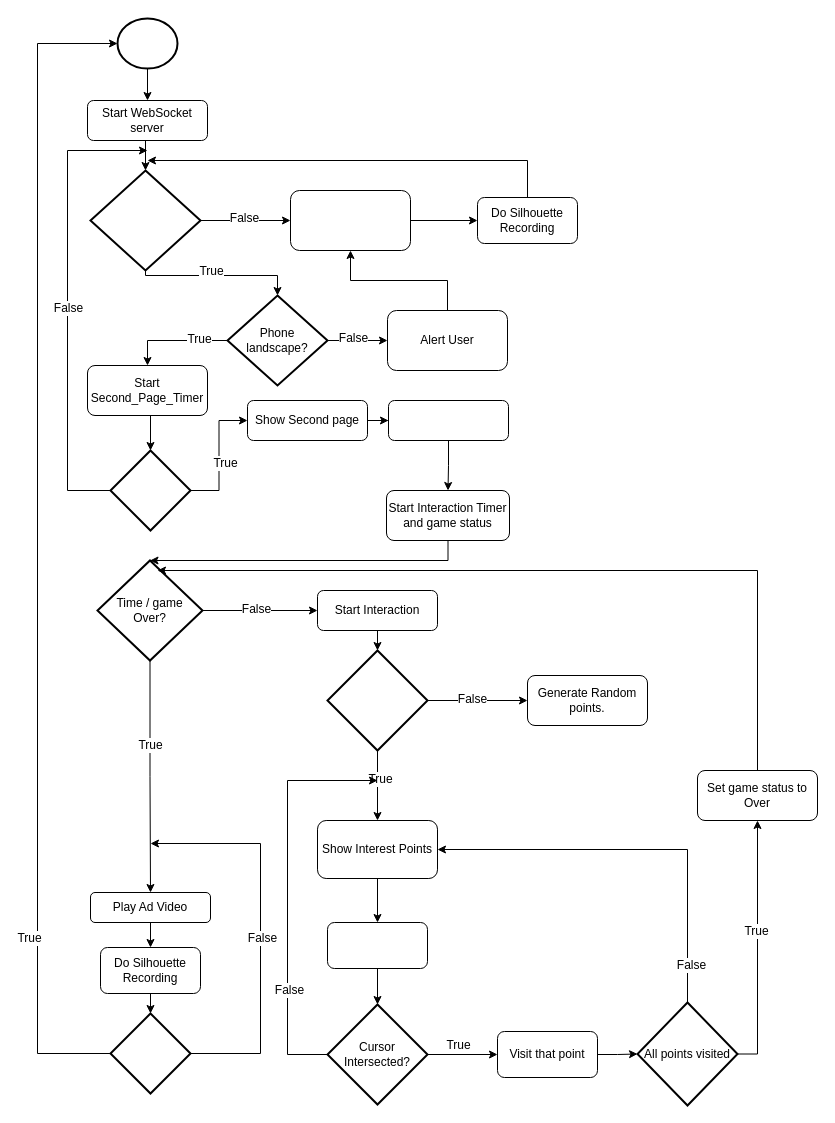
Image size: 835x1123. Some labels were removed from this diagram. The centre of each missing label's shape, as x and y in pixels:
"Anyone connected?" goes at (145,220).
"Interest Points created?" goes at (377,700).
"Record silhouette" goes at (377,945).
"Show First Page" goes at (350,220).
"Show pointer" goes at (448,420).
"Start" goes at (147,43).
"Time Over?" goes at (150,490).
"Video Over?" goes at (150,1053).
